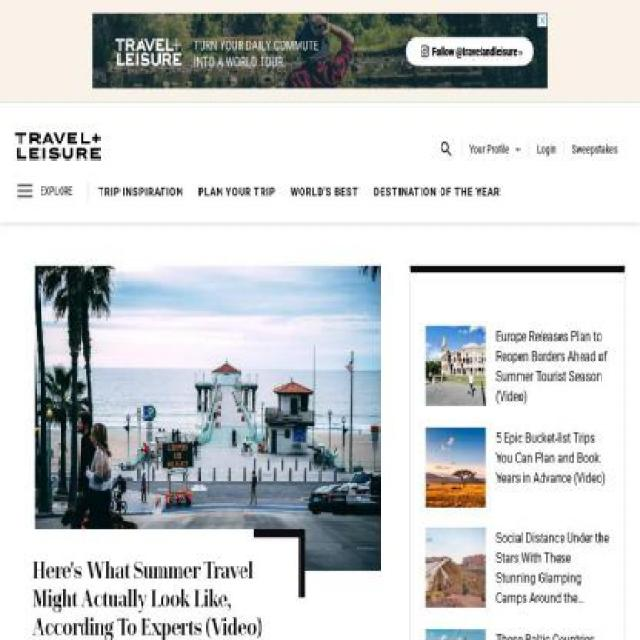button: (30, 266, 381, 639), (14, 132, 432, 160), (426, 326, 496, 408), (426, 528, 496, 609), (426, 428, 496, 508), (469, 140, 522, 158), (426, 628, 496, 640)
